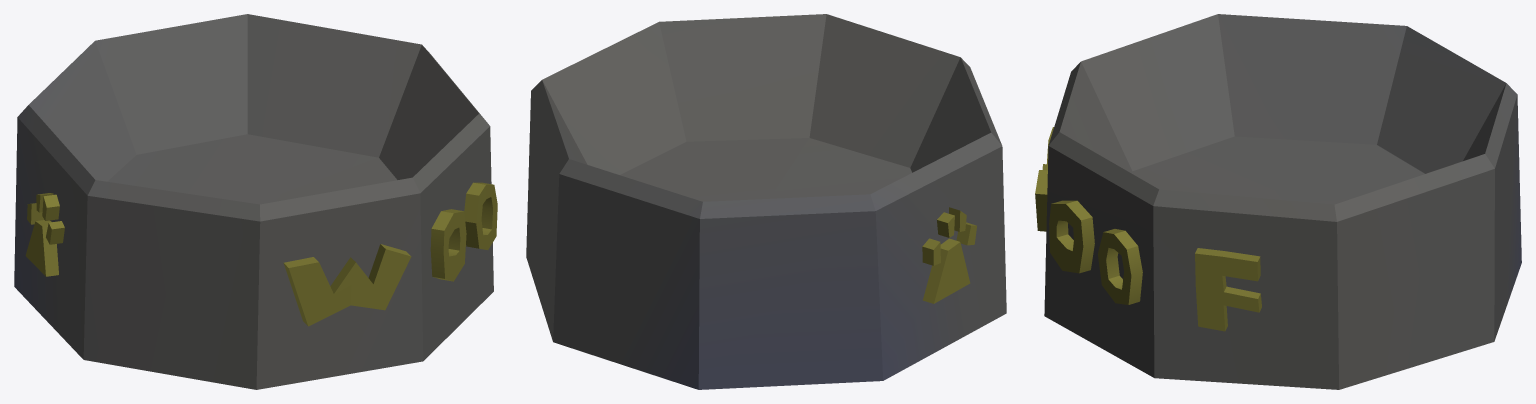
File: Livingroom2_Bowl.fbx
3 renders of one model, left to right at view 1: azimuth 30°, elevation 25°; view 2: azimuth 150°, elevation 25°; view 3: azimuth 270°, elevation 25°, orthographic.
Visible parts, largest first — view 1: Livingroom2_Bowl; view 2: Livingroom2_Bowl; view 3: Livingroom2_Bowl.
Boxes of the visible parts, bbox=[...] form: Livingroom2_Bowl: bbox=[14, 14, 497, 389]; Livingroom2_Bowl: bbox=[526, 14, 1006, 389]; Livingroom2_Bowl: bbox=[1035, 14, 1521, 389].
Size of the model in its own units: 33.21 by 13.83 by 33.39.
